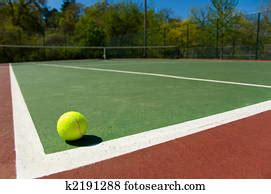tennis_ball: (56, 110, 88, 142)
